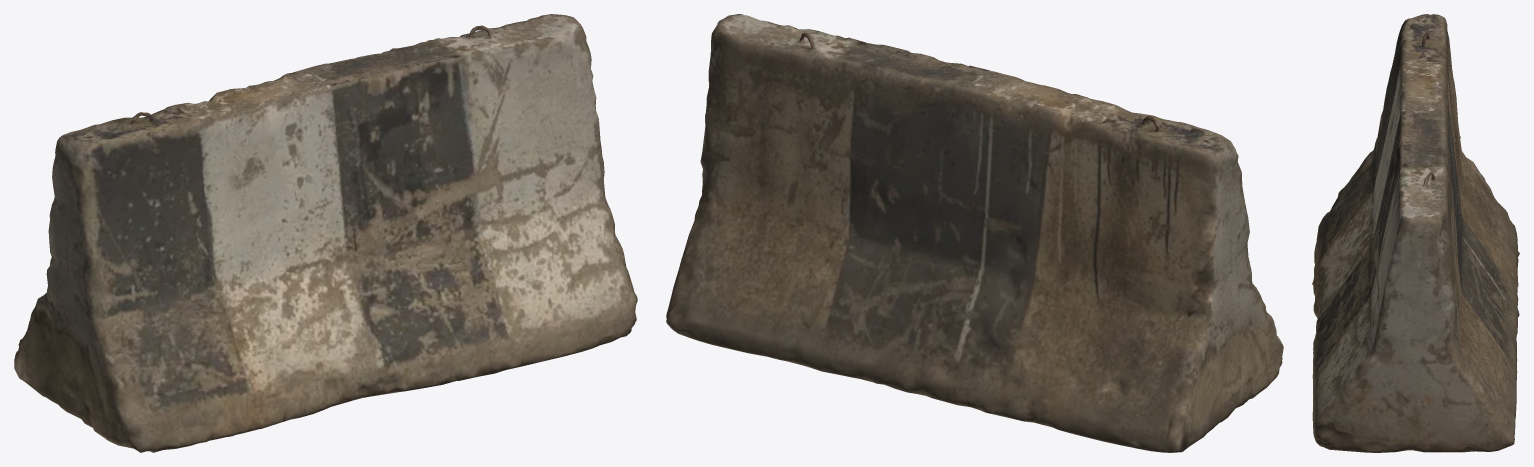
The model's file is concrete_road_barrier.glb.
3 renders of one model, left to right at view 1: azimuth 30°, elevation 25°; view 2: azimuth 150°, elevation 25°; view 3: azimuth 270°, elevation 25°, orthographic. The views are drawn at different scales.
Parts seen in each view (by area): view 1: concrete_road_barrier; view 2: concrete_road_barrier; view 3: concrete_road_barrier.
Part boxes in pixels (x1=…): concrete_road_barrier: x1=14, y1=14, x2=637, y2=452; concrete_road_barrier: x1=666, y1=14, x2=1283, y2=452; concrete_road_barrier: x1=1312, y1=14, x2=1519, y2=452.
Bounding box in the file's own units: 1.54 × 0.8303 × 0.6386.
1 material, 1 textured.
